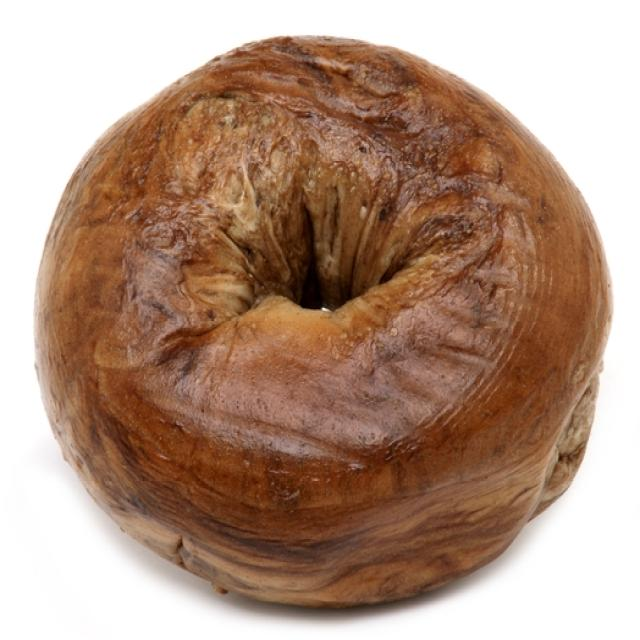面包点心: (29, 15, 628, 629)
